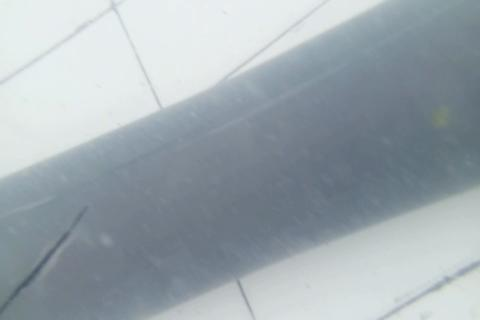keretakan: (0, 204, 87, 314)
